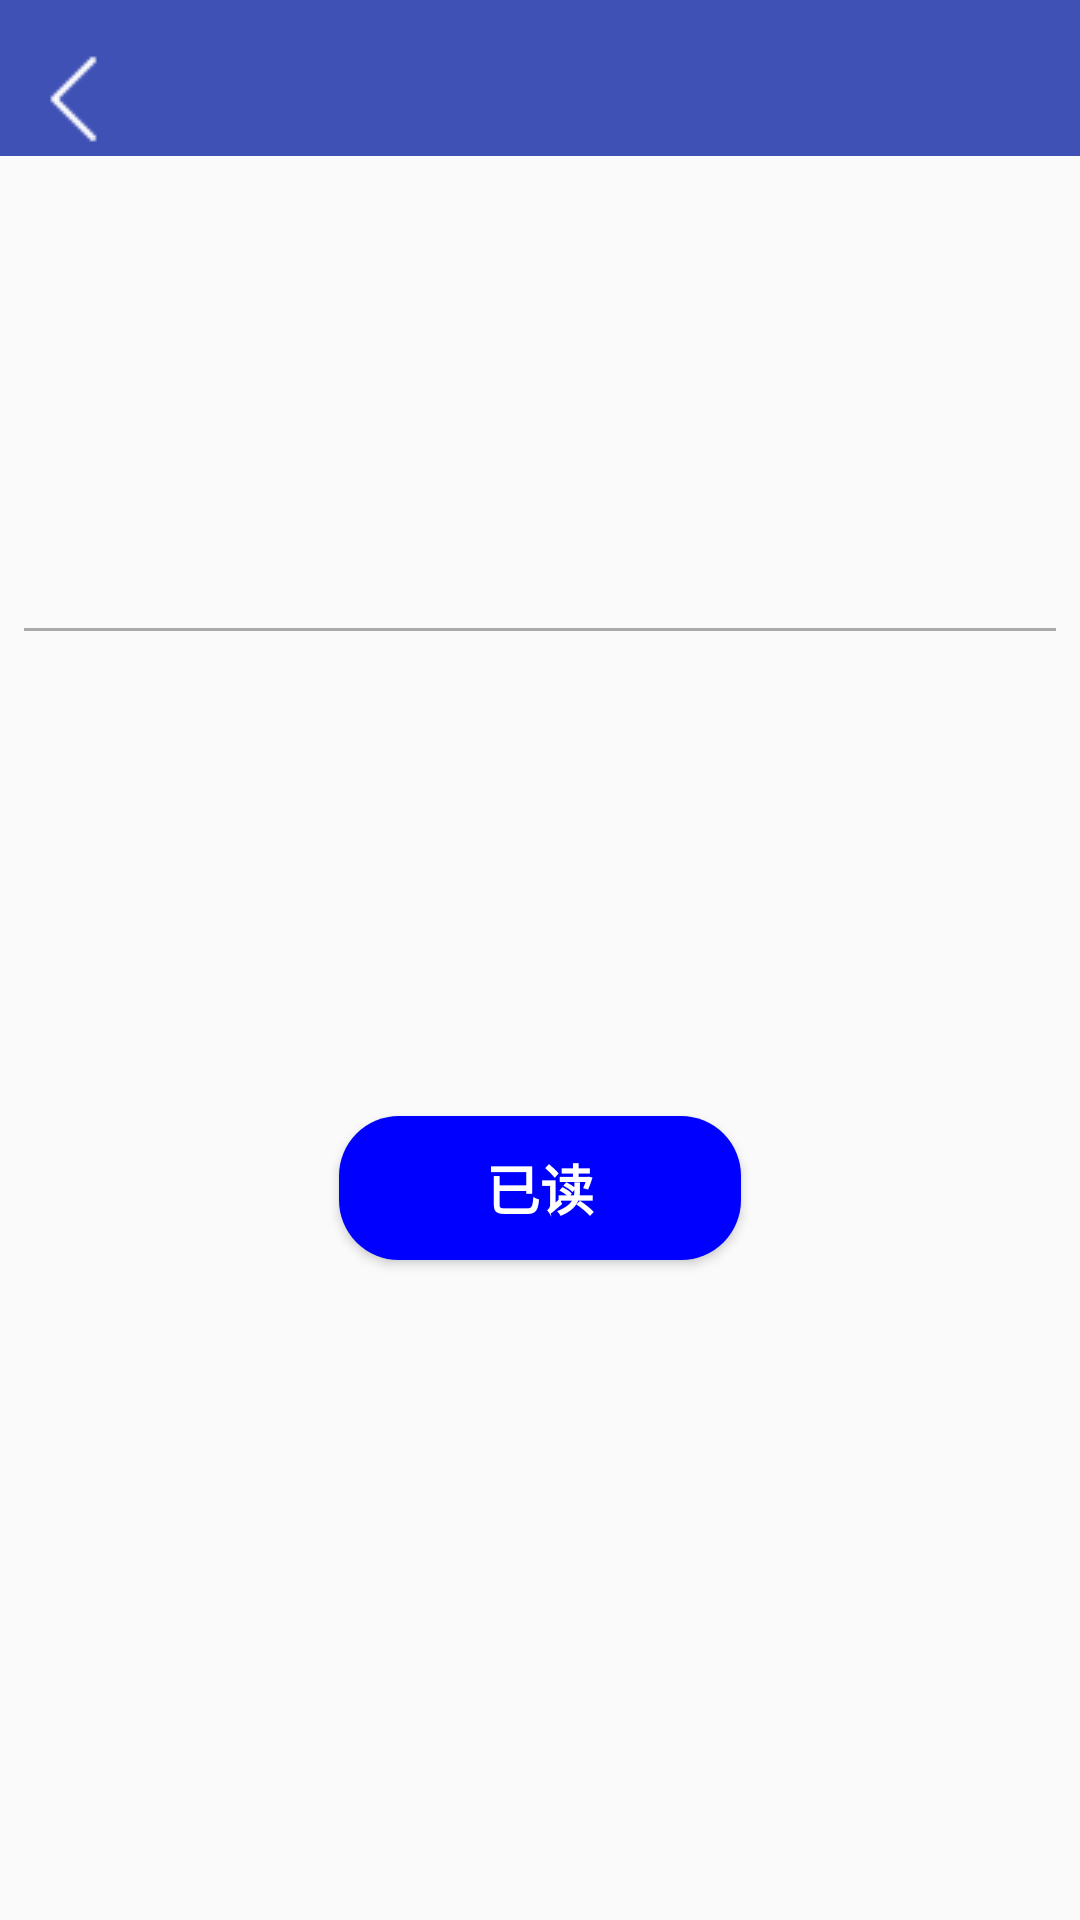

Locate icon controls on the screen. Image size 1080*1920, boxes as [x1,y1,x2,y2].
back: [50,56,97,142]
